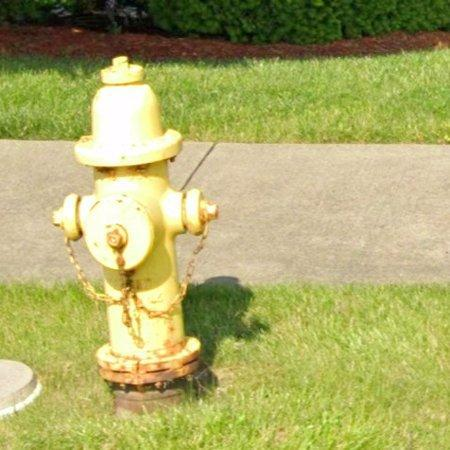a fire hydrant: (52, 56, 218, 411)
